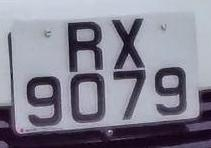0: (65, 69, 114, 129)
7: (107, 65, 155, 125)
9: (19, 67, 66, 133), (148, 63, 195, 122)
R: (59, 15, 113, 76)
X: (106, 14, 156, 73)
